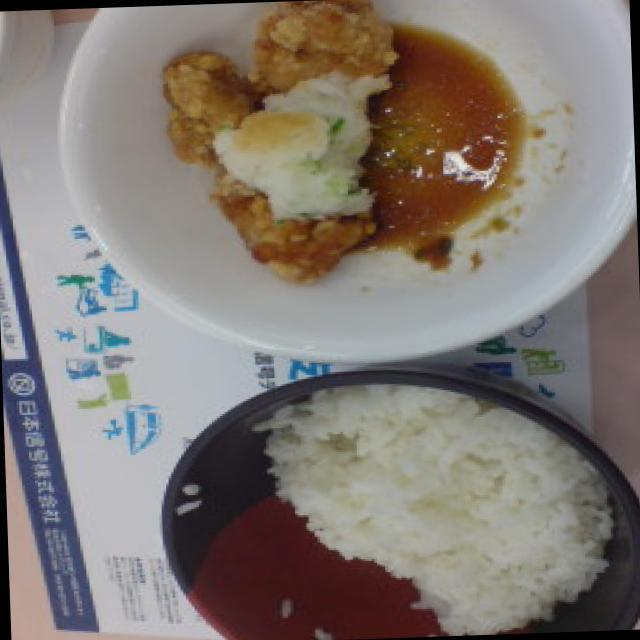Rice: (281, 366, 620, 627)
